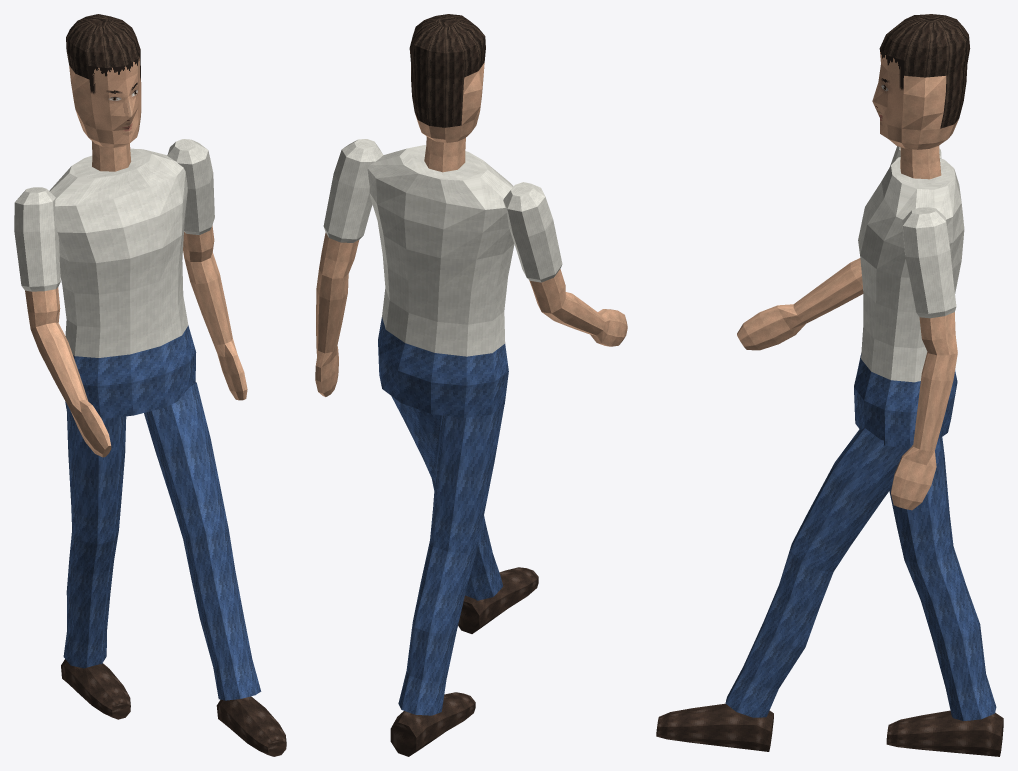
File: walk_03.obj
3 views of the same model, side by side, from view 1: azimuth 30°, elevation 25°; view 2: azimuth 150°, elevation 25°; view 3: azimuth 270°, elevation 25° (orthographic). The views are drawn at different scales.
Size of the model in its own units: 0.6254 by 1.84 by 0.7913.
25 materials, 25 textured.
